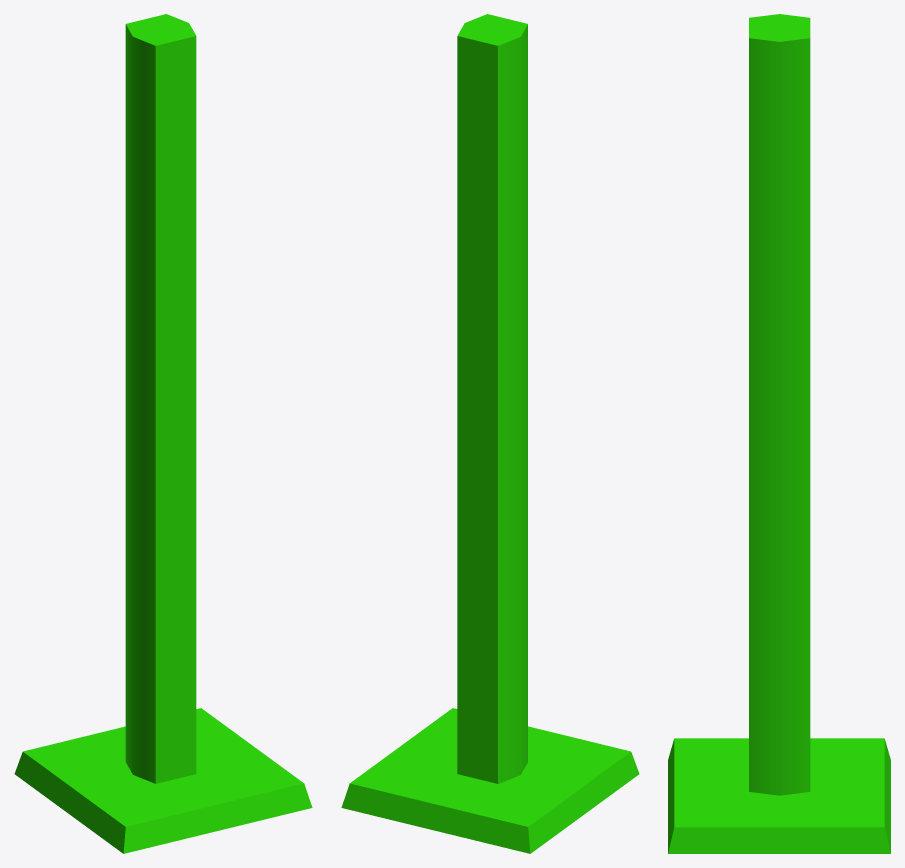
The model's file is Crash_Barrier_01_Plot.fbx.
3 views of the same model, side by side, from view 1: azimuth 30°, elevation 25°; view 2: azimuth 150°, elevation 25°; view 3: azimuth 270°, elevation 25° (orthographic). The views are drawn at different scales.
Parts seen in each view (by area): view 1: Crash_Barrier_01_Plot; view 2: Crash_Barrier_01_Plot; view 3: Crash_Barrier_01_Plot.
Boxes of the visible parts, left/top/right/bottom form: Crash_Barrier_01_Plot: left=14, top=14, right=312, bottom=853; Crash_Barrier_01_Plot: left=341, top=14, right=639, bottom=853; Crash_Barrier_01_Plot: left=668, top=14, right=890, bottom=853.
Size of the model in its own units: 20.03 by 77.27 by 20.03.
